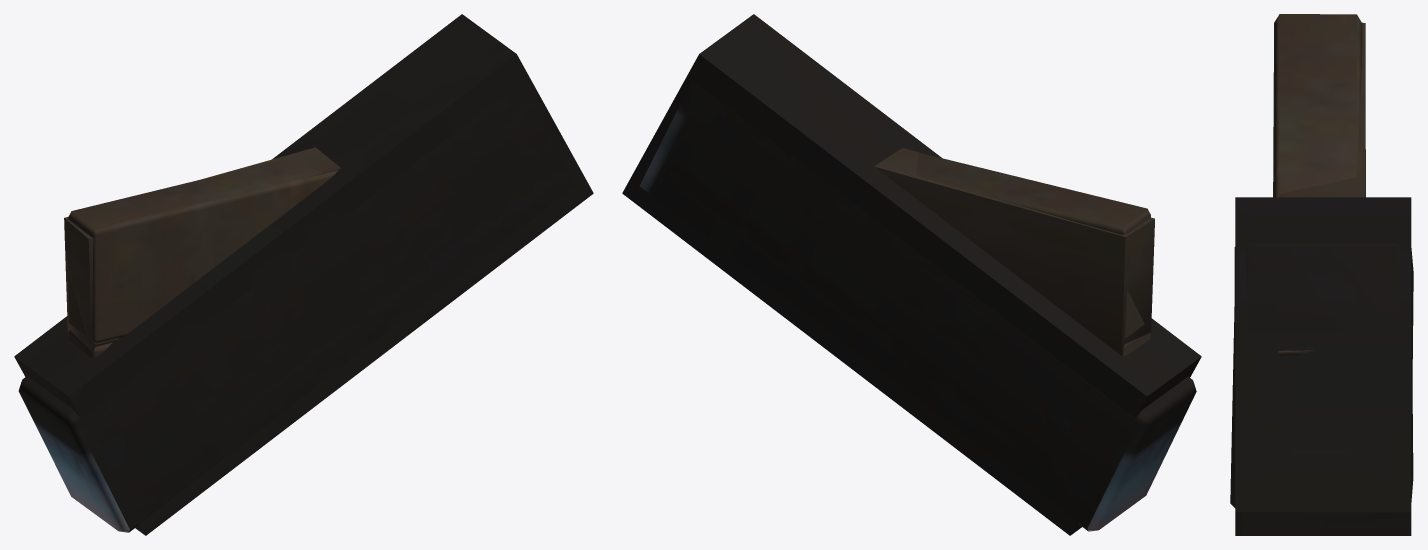
Rendered from ashwood_wall_roof_26_upsidedown.glb.
The picture shows the model from 3 angles, left to right: view 1: azimuth 30°, elevation 25°; view 2: azimuth 150°, elevation 25°; view 3: azimuth 270°, elevation 25°; orthographic projection. The views are drawn at different scales.
Parts seen in each view (by area): view 1: geometry_0; view 2: geometry_0; view 3: geometry_0.
Boxes of the visible parts, <box> form: geometry_0: <box>14,14,593,535</box>; geometry_0: <box>622,14,1201,535</box>; geometry_0: <box>1230,14,1413,535</box>.
Bounding box in the file's own units: 2.35 × 1.67 × 0.4407.
Materials: 1 (1 with a texture image).
